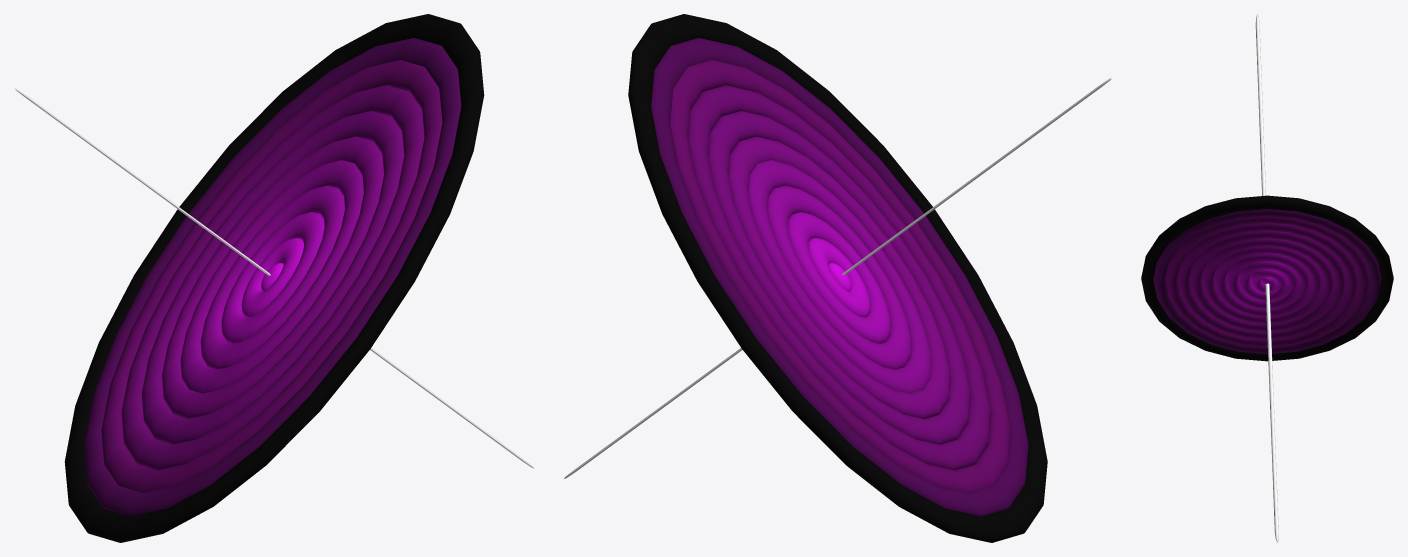
The model's file is buconero.gltf.
3 renders of one model, left to right at view 1: azimuth 30°, elevation 25°; view 2: azimuth 150°, elevation 25°; view 3: azimuth 270°, elevation 25°, orthographic. The views are drawn at different scales.
Visible parts, largest first — view 1: Torus, Torus1, Torus2, Torus3, Torus4, Torus5, Torus6, Torus7, Torus8, Torus9, Capsule; view 2: Torus, Torus1, Torus2, Torus3, Torus4, Torus5, Torus6, Torus7, Torus8, Torus9, Capsule; view 3: Torus, Torus1, Torus2, Torus3, Torus4, Torus5, Torus6, Capsule, Torus7, Torus8, Torus9.
Boxes of the visible parts, x1,y1,x2,y2 form: Torus: (64, 14, 484, 542); Torus1: (83, 38, 461, 516); Torus2: (101, 60, 442, 492); Torus3: (121, 85, 424, 470); Torus4: (141, 111, 404, 444); Torus5: (162, 136, 383, 418); Torus6: (180, 160, 363, 393); Torus7: (200, 185, 344, 369); Torus8: (221, 212, 324, 343); Torus9: (241, 237, 303, 317); Capsule: (15, 88, 533, 468); Torus: (628, 14, 1047, 542); Torus1: (651, 38, 1028, 516); Torus2: (670, 60, 1010, 492); Torus3: (688, 85, 990, 470); Torus4: (708, 111, 970, 444); Torus5: (728, 136, 950, 418); Torus6: (748, 160, 931, 393); Torus7: (767, 185, 911, 369); Torus8: (787, 212, 890, 343); Torus9: (808, 237, 870, 317); Capsule: (563, 77, 1112, 479); Torus: (1141, 195, 1393, 361); Torus1: (1153, 209, 1381, 353); Torus2: (1165, 216, 1369, 347); Torus3: (1177, 223, 1357, 339); Torus4: (1189, 230, 1345, 331); Torus5: (1201, 238, 1333, 323); Torus6: (1213, 246, 1321, 316); Capsule: (1255, 14, 1278, 542); Torus7: (1225, 253, 1309, 309); Torus8: (1237, 261, 1297, 301); Torus9: (1249, 269, 1285, 293).
Size of the model in its own units: 3.47 by 3.24 by 2.1.
